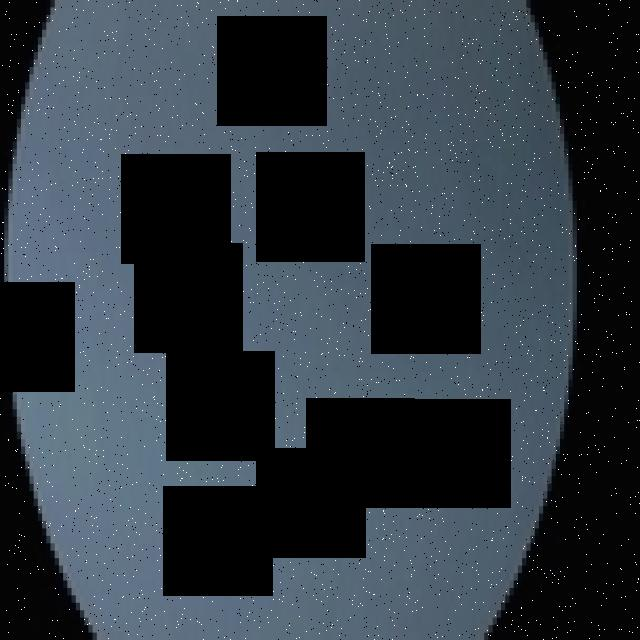Uranus: (8, 0, 580, 640)
